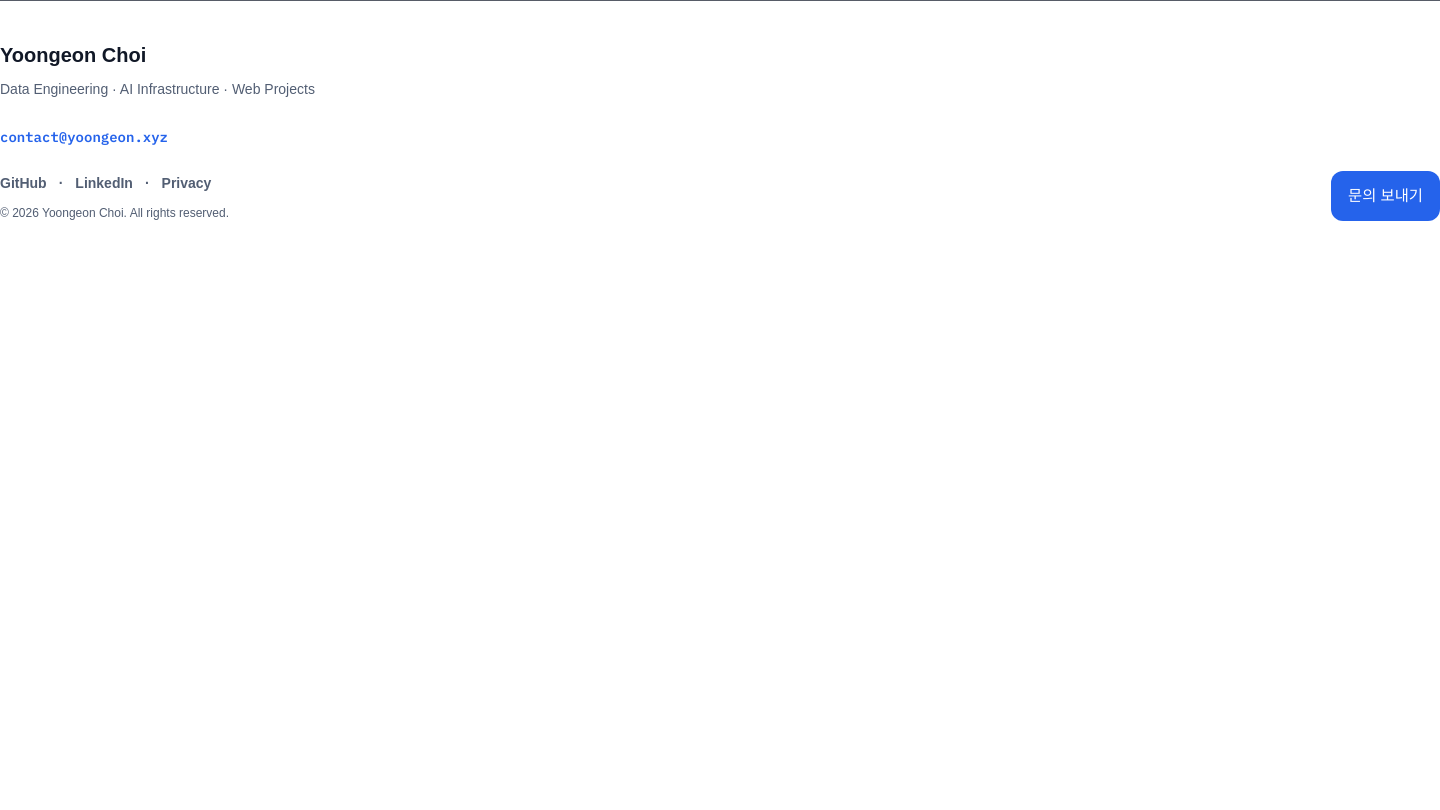
Test: ContactSection › blocks invalid email before submitting
Click the button "문의 보내기" at (1386, 196), box [1331,171,1439,221]
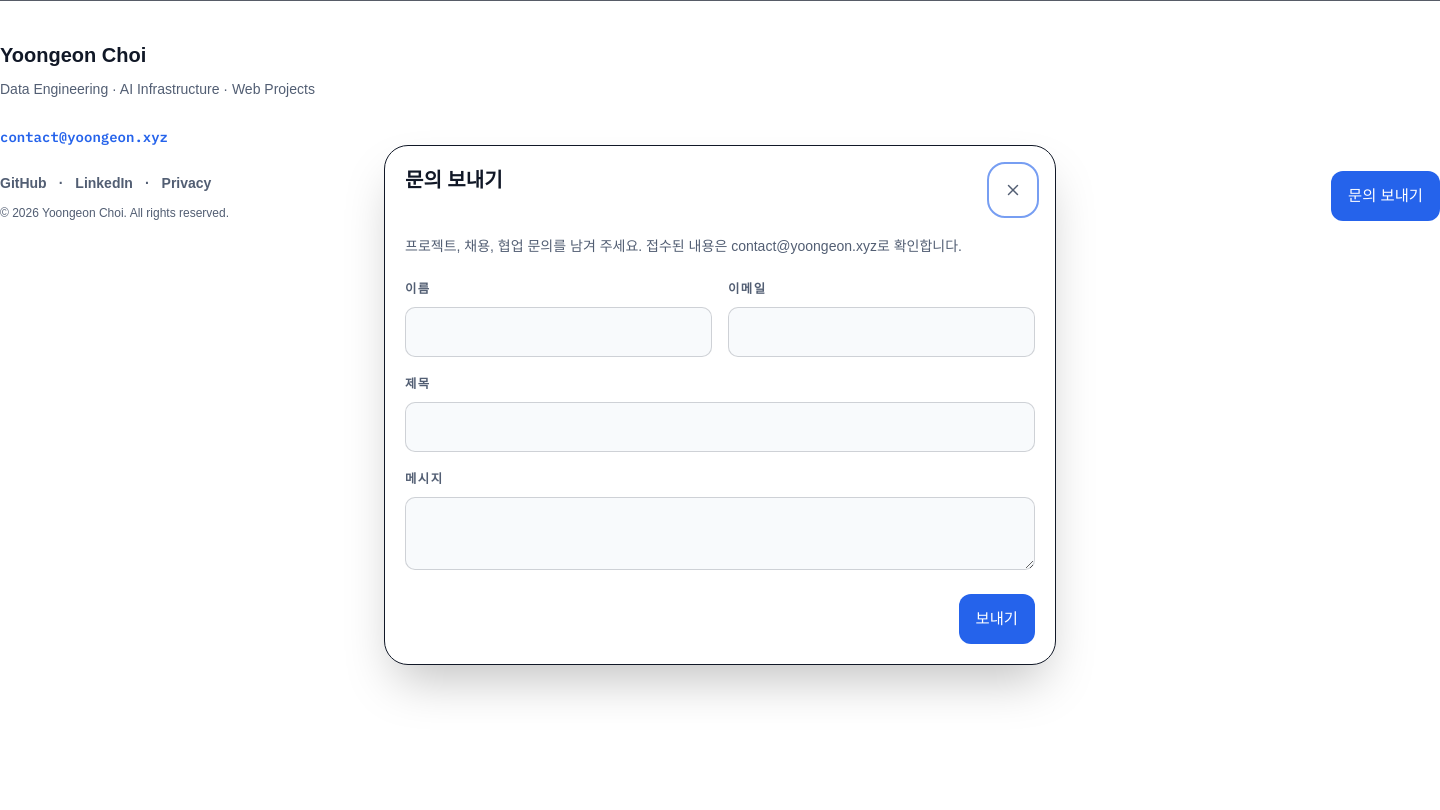
Type "홍길동" into the field labelled "이름" at (558, 332), box [405,307,712,357]
Type "user@example.com" into the field labelled "이메일" at (882, 332), box [728,307,1035,357]
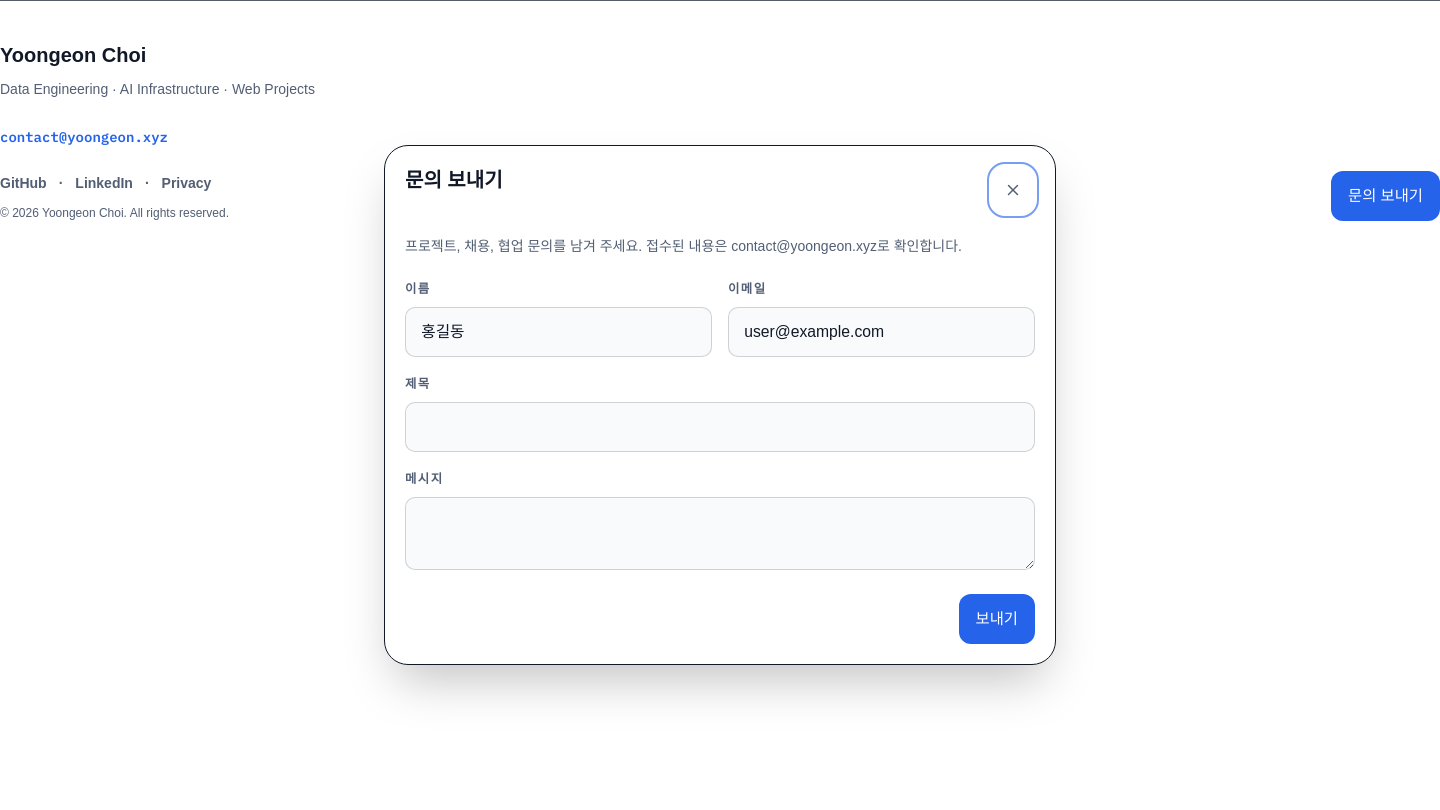
Type "협업 문의" into the field labelled "제목" at (720, 427), box [405,402,1035,452]
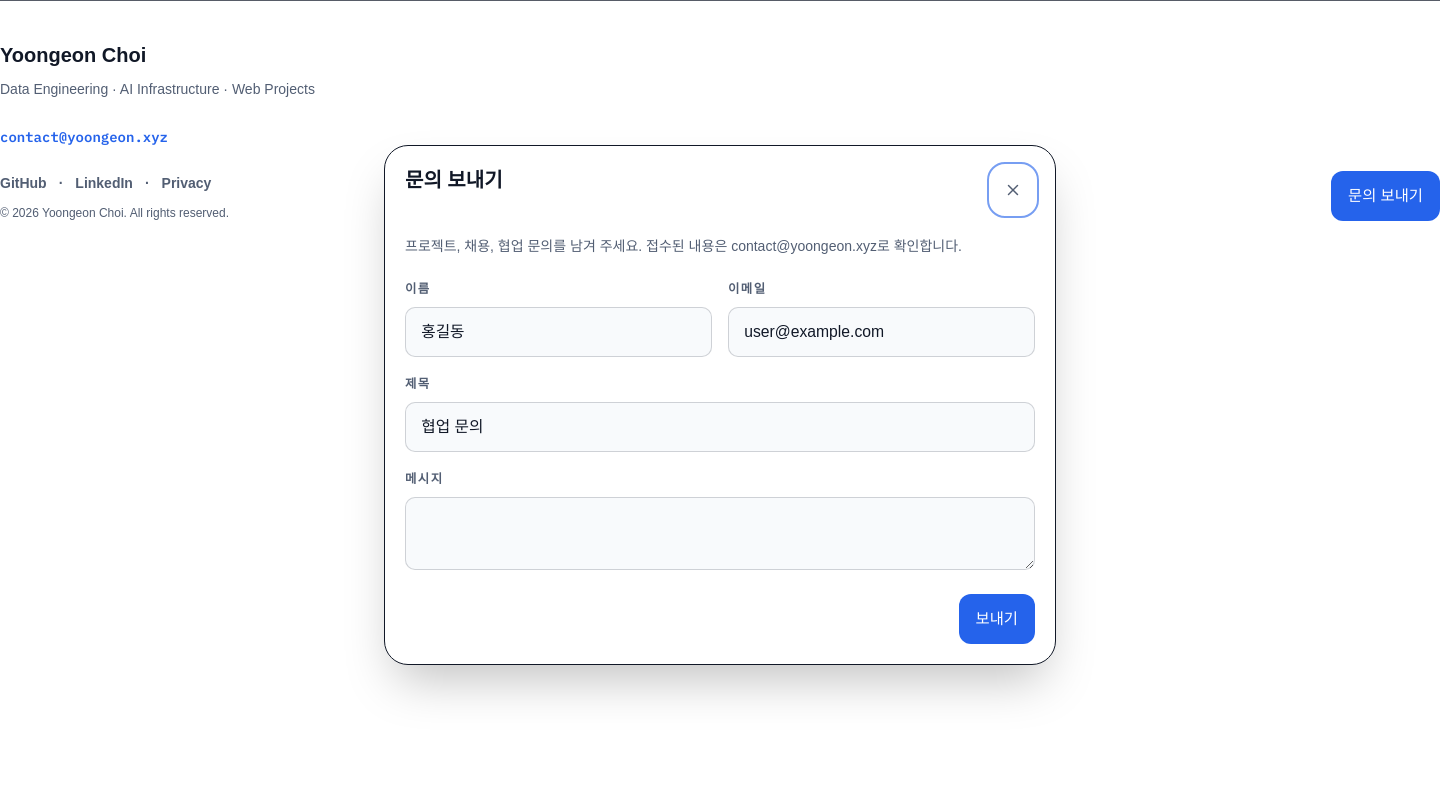
Type "프로젝트 협업 가능 여부를 문의드립니다." into the text box labelled "메시지" at (720, 534), box [405,497,1035,570]
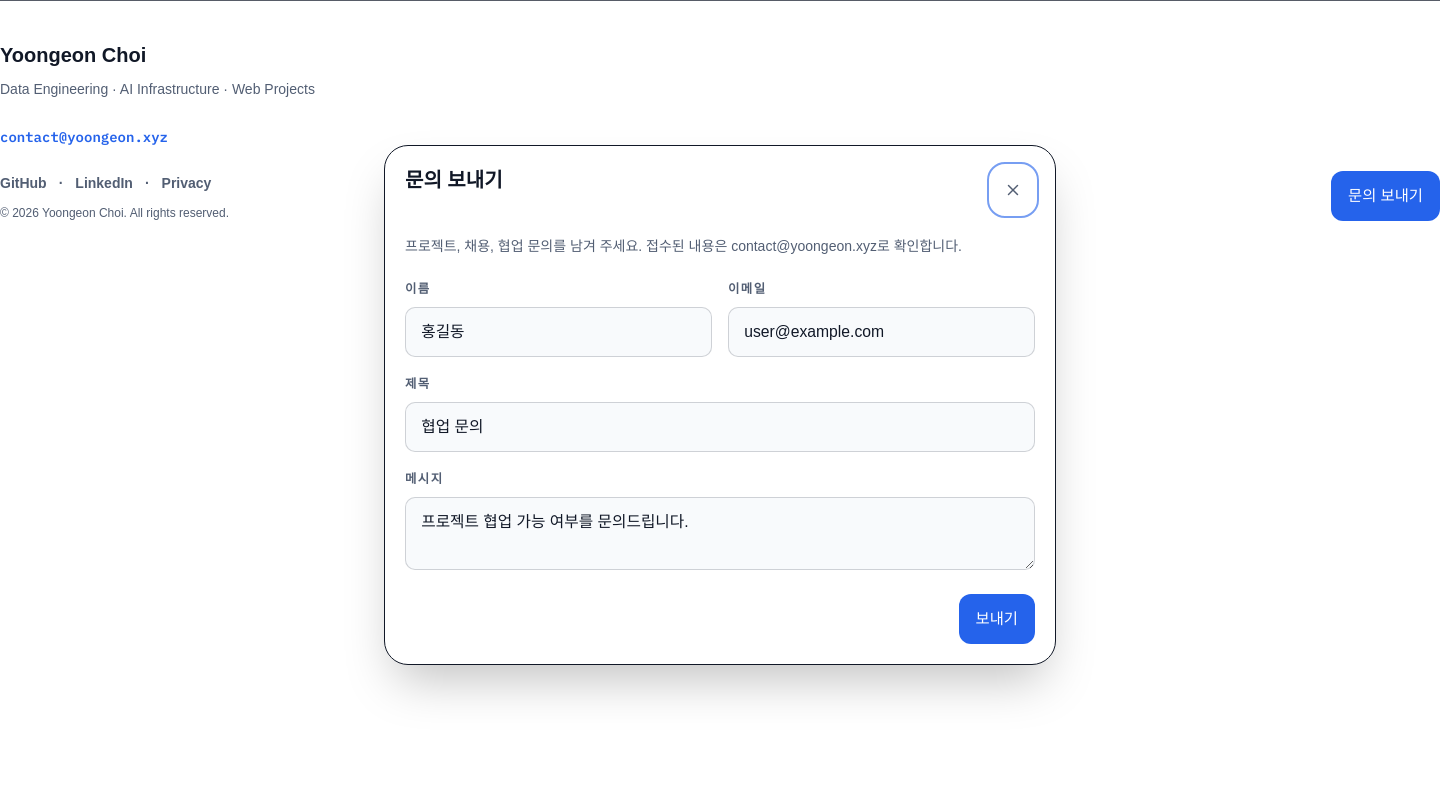
Replace the text in the field labelled "이메일" with "invalid" at (882, 332), box [728,307,1035,357]
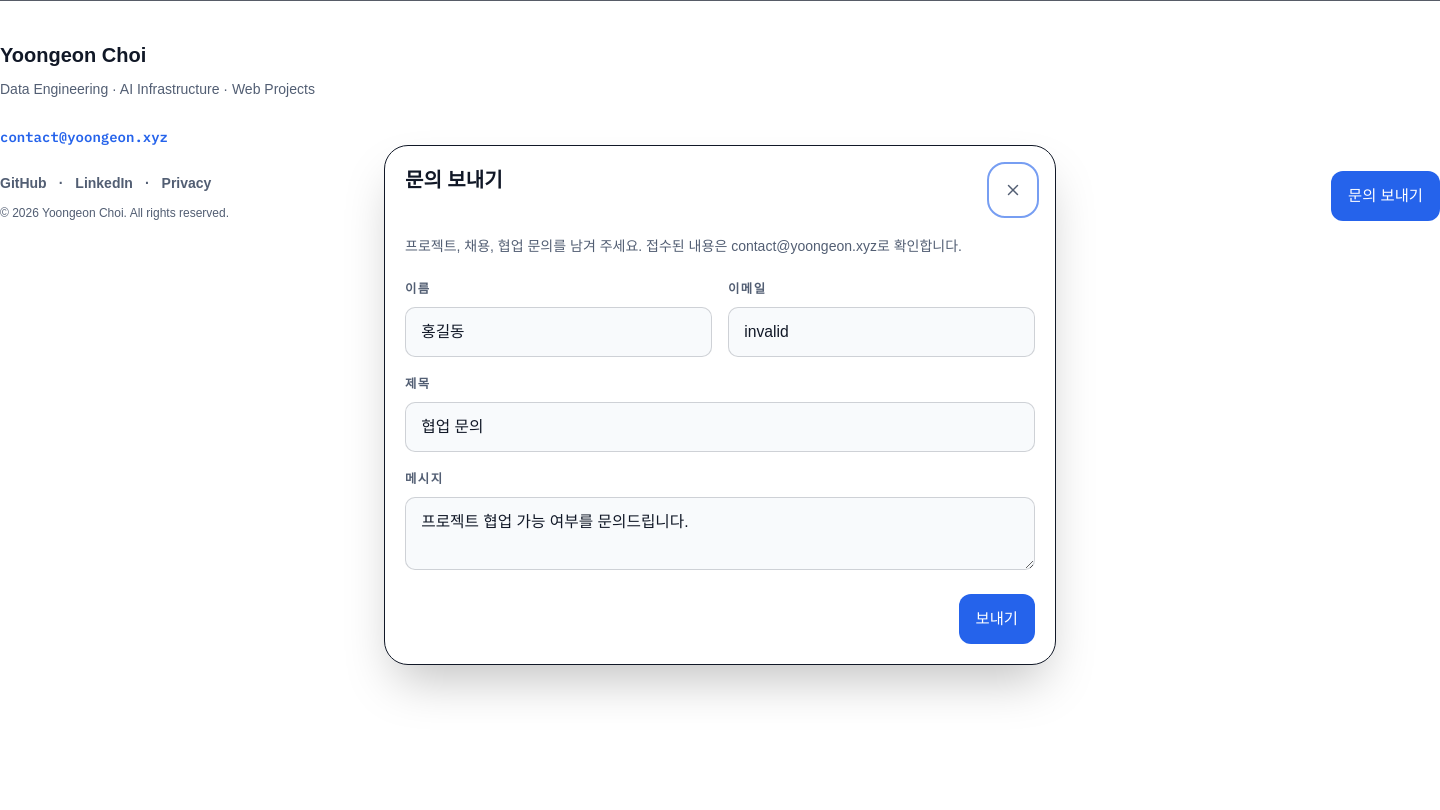
Click the button "보내기" at (997, 619), box [959,594,1035,644]
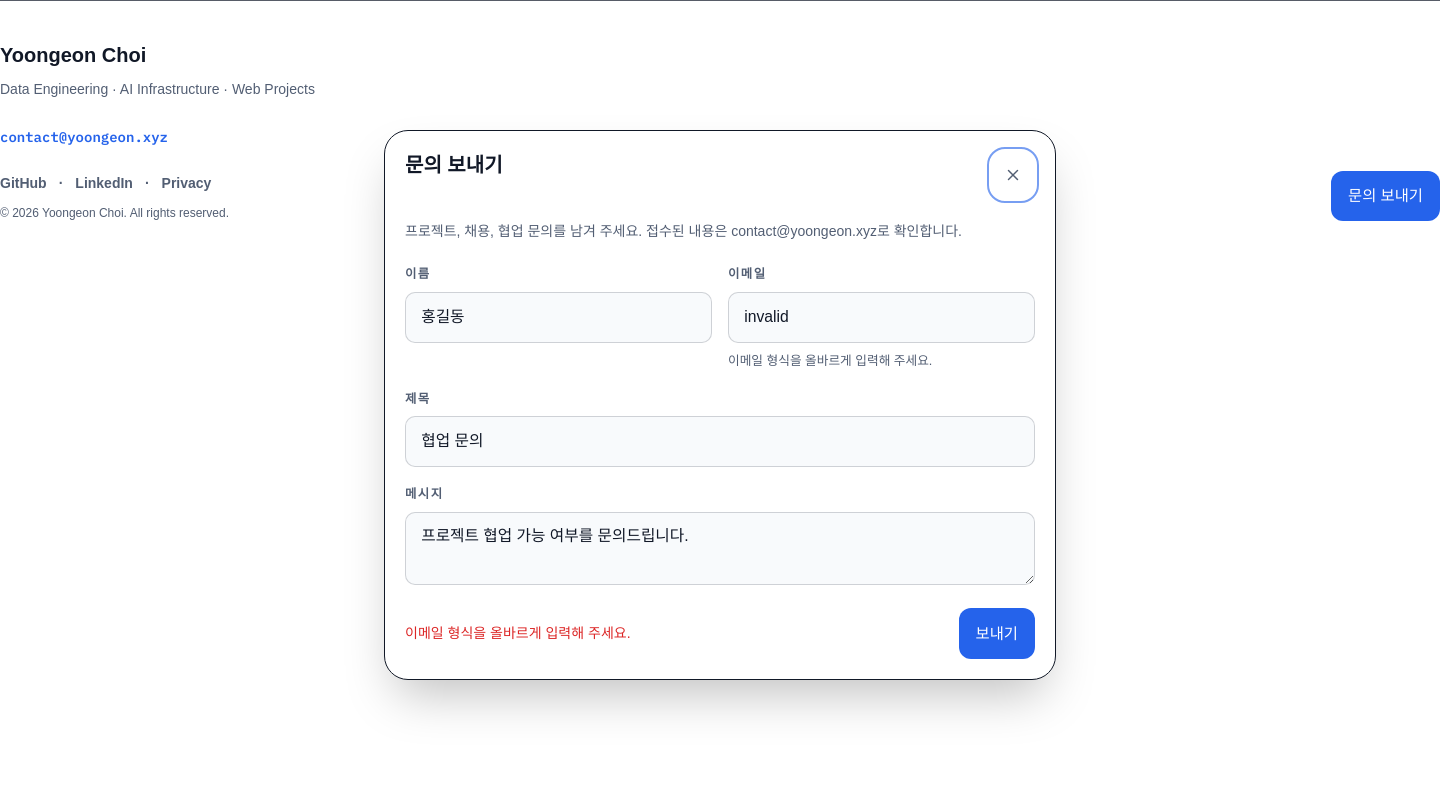
expect the 1st text "이메일 형식을 올바르게 입력해 주세요." is shown: met, box [728,354,932,368]
